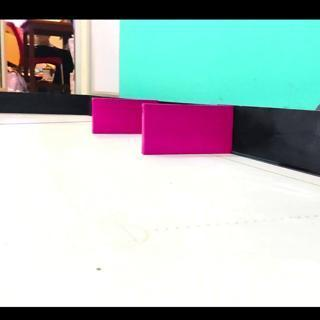xparking: (143, 106, 232, 154), (94, 100, 142, 134)
